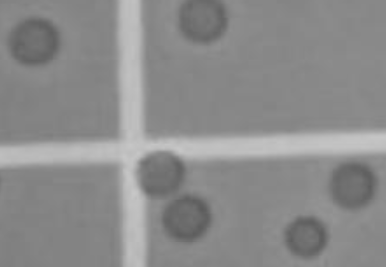cell: (3, 10, 65, 71), (129, 143, 189, 206), (157, 185, 218, 244), (169, 1, 238, 50), (323, 157, 380, 213), (275, 209, 333, 264)
